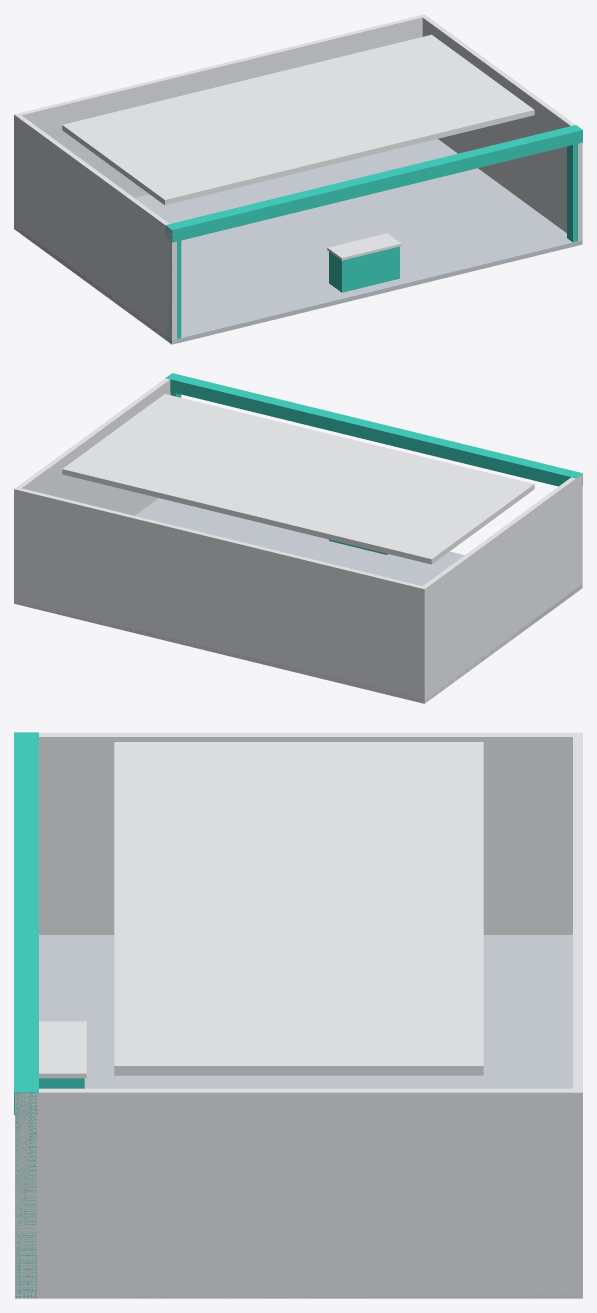
The picture shows the model from 3 angles, top to bottom: view 1: azimuth 30°, elevation 25°; view 2: azimuth 150°, elevation 25°; view 3: azimuth 270°, elevation 25°; orthographic projection. The views are drawn at different scales.
Visible parts, largest first — view 1: Exhibition Booth Concept; view 2: Exhibition Booth Concept; view 3: Exhibition Booth Concept.
Part boxes in pixels (x1,y1,x2,y2): Exhibition Booth Concept: (14, 14, 582, 344); Exhibition Booth Concept: (14, 373, 582, 703); Exhibition Booth Concept: (14, 732, 582, 1298).
Bounding box in the file's own units: 12 × 3.34 × 8.01.
